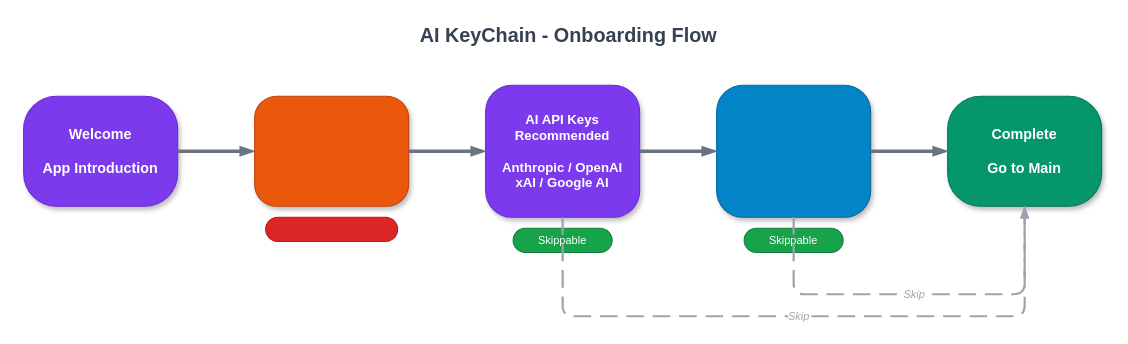
Some shapes in this 1128 by 344 pixel diagram are drawn without their labels. Each missing label, with the centre of its shape:
GitHub Token REQUIRED: the point at 332,152
Other Keys Optional GitLab / Cloudflare Discord / Slack: the point at 794,152
Skip: NOT allowed: the point at 331,228
